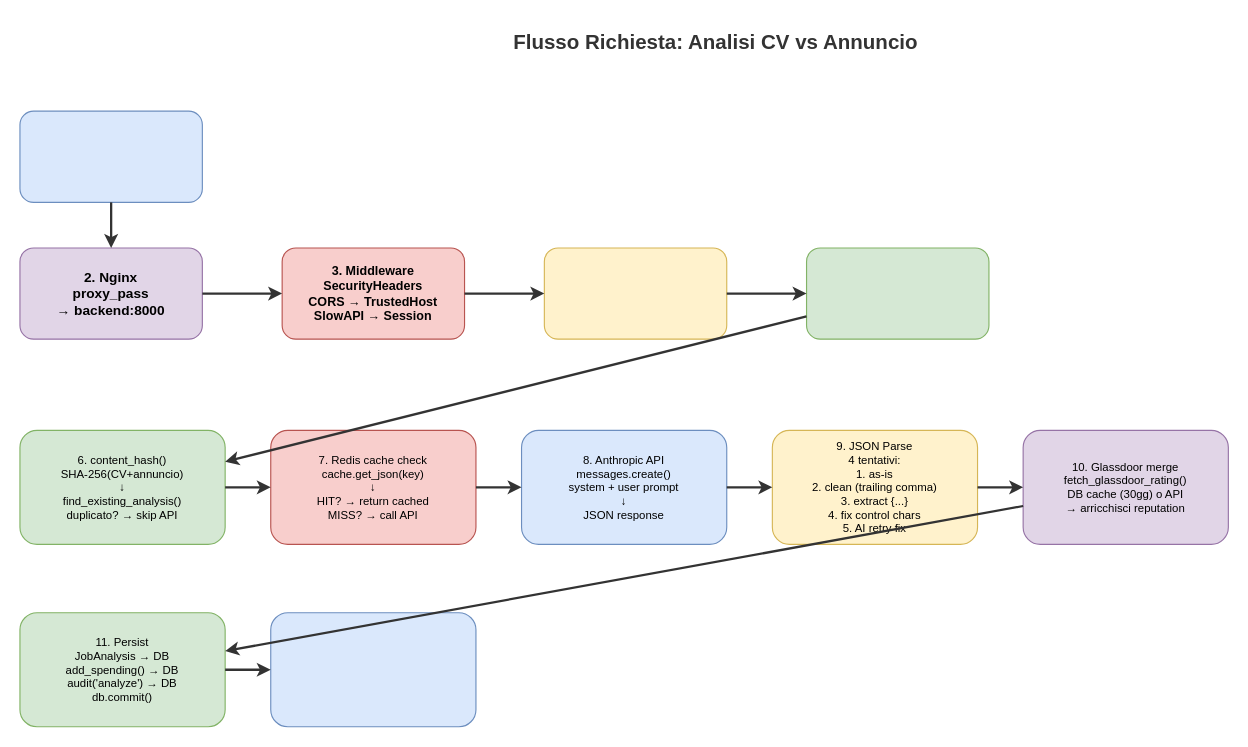
Image size: 1248x747. Some labels were removed from this diagram. The shapes that lost their labels are listed below. From the top down, each one's centre as x and y in pixels, then its label:
the point at 110,156: 1. Browser POST /analyze (CV + annuncio)
the point at 635,293: 4. Auth Check get_current_user() sessione → user_id → DB query User
the point at 897,293: 5. Route Handler analysis/routes.py POST /analyze
the point at 373,669: 12. Redirect → /analysis/{id} (PRG pattern) ↓ GET renders detail
